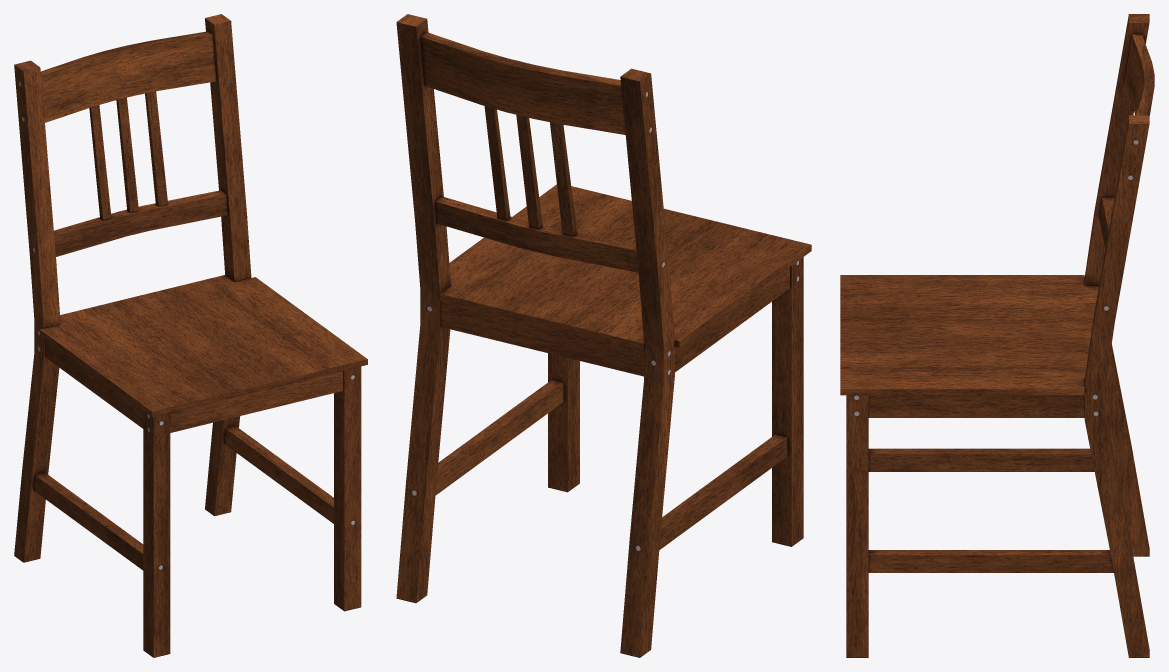
The picture shows the model from 3 angles, left to right: view 1: azimuth 30°, elevation 25°; view 2: azimuth 150°, elevation 25°; view 3: azimuth 270°, elevation 25°; orthographic projection. The views are drawn at different scales.
Visible parts, largest first — view 1: Chair_Chair_0; view 2: Chair_Chair_0; view 3: Chair_Chair_0.
Boxes of the visible parts, x1,y1,x2,y2 form: Chair_Chair_0: (14,14,367,657); Chair_Chair_0: (396,14,811,657); Chair_Chair_0: (840,14,1154,657).
Bounding box in the file's own units: 41.32 × 90 × 48.
1 material, 1 textured.
